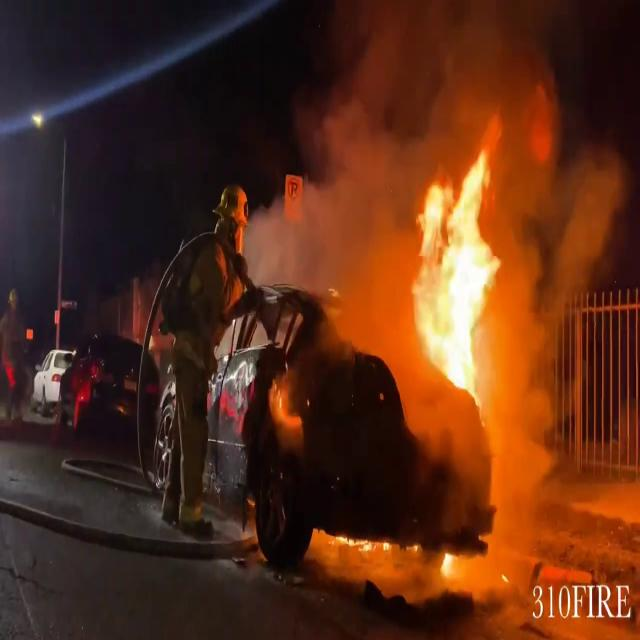Fire: (412, 125, 516, 404)
